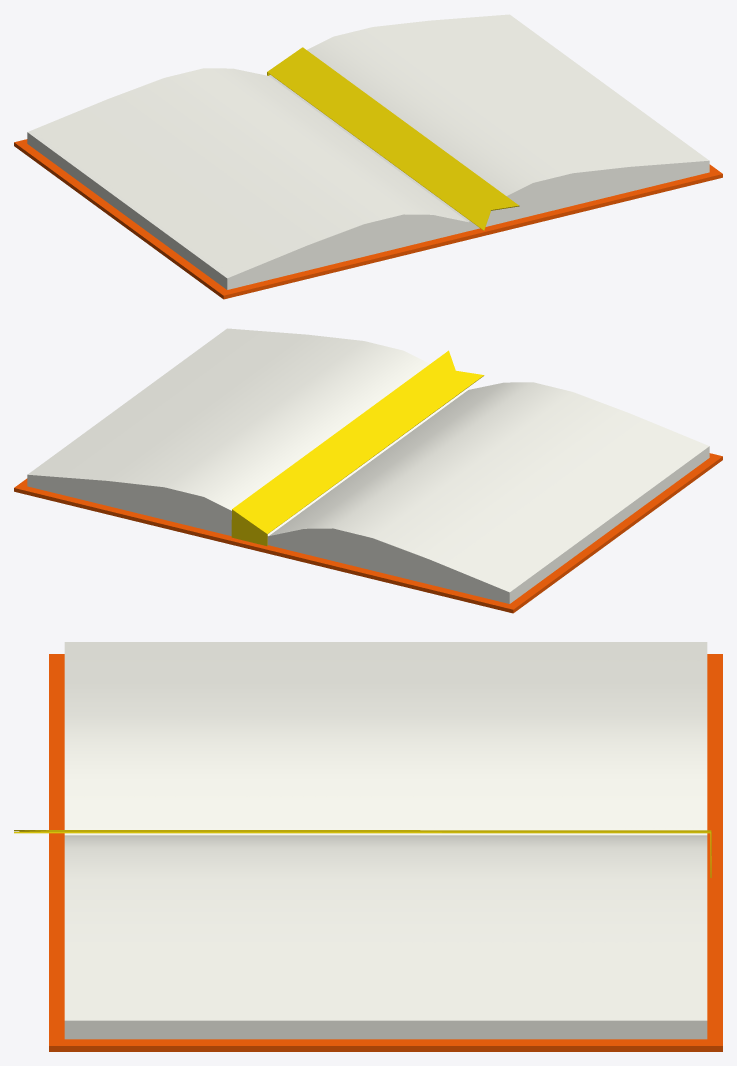
The model's file is Book_Open.obj.
3 renders of one model, top to bottom at view 1: azimuth 30°, elevation 25°; view 2: azimuth 150°, elevation 25°; view 3: azimuth 270°, elevation 25°, orthographic. The views are drawn at different scales.
Visible parts, largest first — view 1: Book_Open; view 2: Book_Open; view 3: Book_Open.
Boxes of the visible parts, x1,y1,x2,y2 form: Book_Open: (14,14,722,299); Book_Open: (14,328,722,613); Book_Open: (14,642,722,1051).
Bounding box in the file's own units: 0.4997 × 0.0347 × 0.3821.
